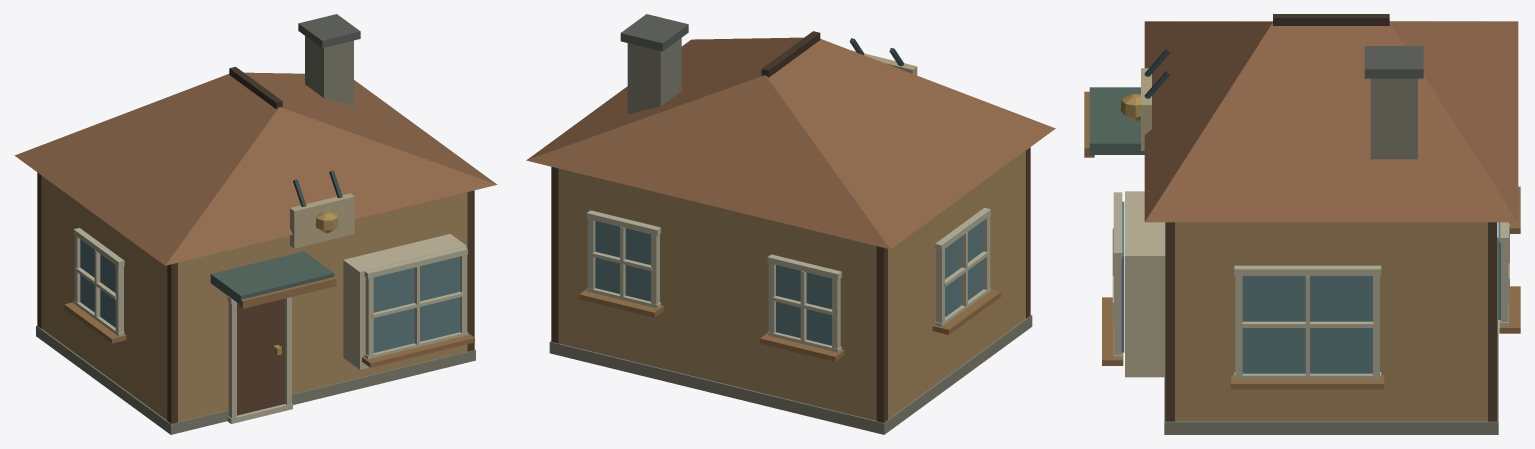
Rendered from Building_Settlement_CornerBakery_001.glb.
3 renders of one model, left to right at view 1: azimuth 30°, elevation 25°; view 2: azimuth 150°, elevation 25°; view 3: azimuth 270°, elevation 25°, orthographic. The views are drawn at different scales.
Visible parts, largest first — view 1: Building_Settlement_CornerBakery_001; view 2: Building_Settlement_CornerBakery_001; view 3: Building_Settlement_CornerBakery_001.
Boxes of the visible parts, x1,y1,x2,y2 form: Building_Settlement_CornerBakery_001: [14, 14, 497, 434]; Building_Settlement_CornerBakery_001: [526, 14, 1055, 434]; Building_Settlement_CornerBakery_001: [1084, 14, 1520, 434].
Size of the model in its own units: 6.12 by 4.84 by 5.55.
